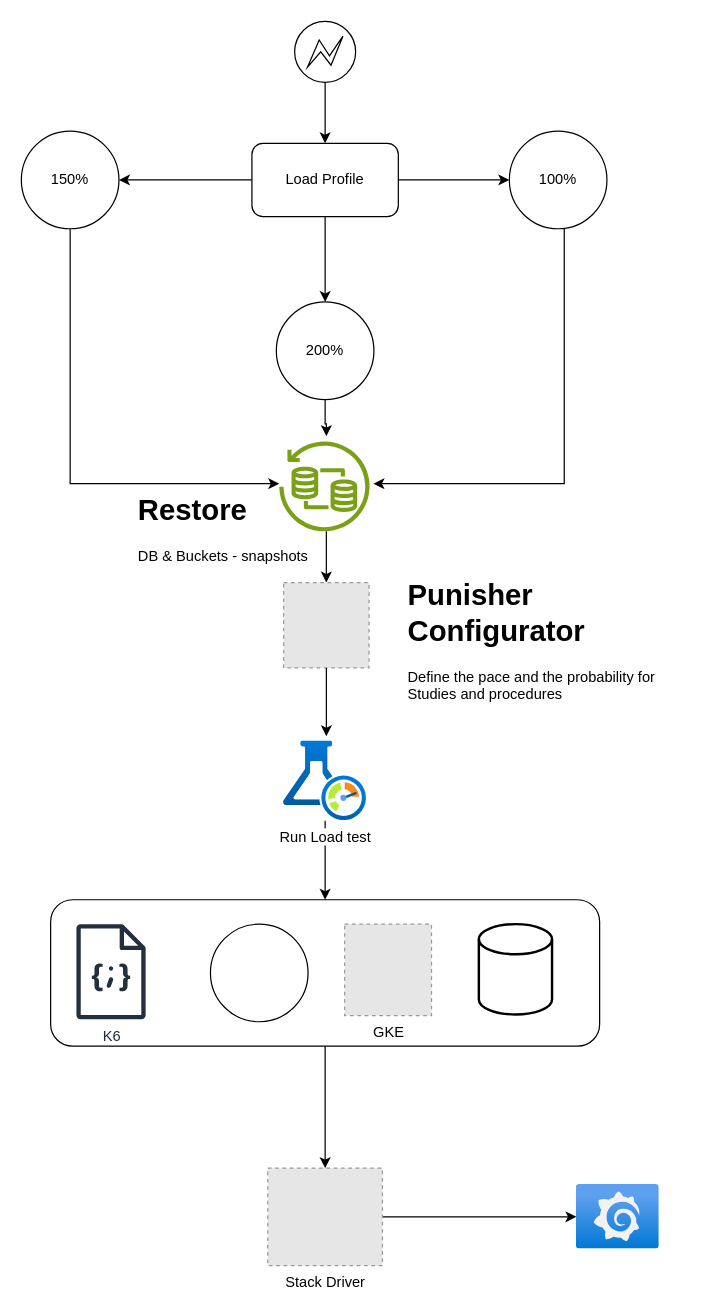
Image size: 708x1313. Some labels were removed from this diagram. Grey dashed boxes stand in for pictures. Each missing label, with the centre of its shape:
Dashboard: [617,1216]
Mongo: [515,968]
PACS: [258,972]
Start Execution: [324,51]
